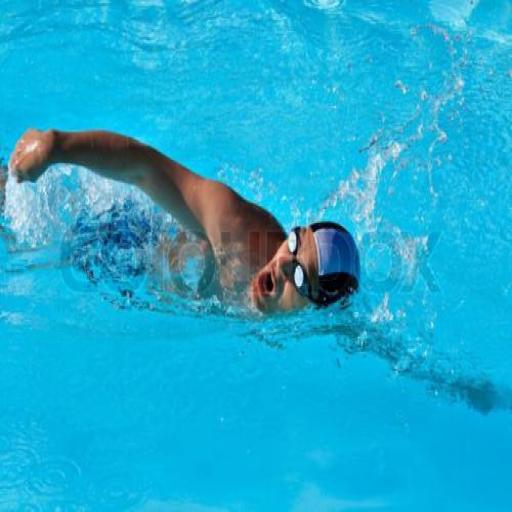swimming: (1, 123, 364, 321)
